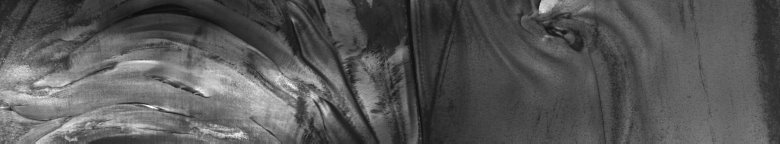ke: (4, 4, 423, 136)
